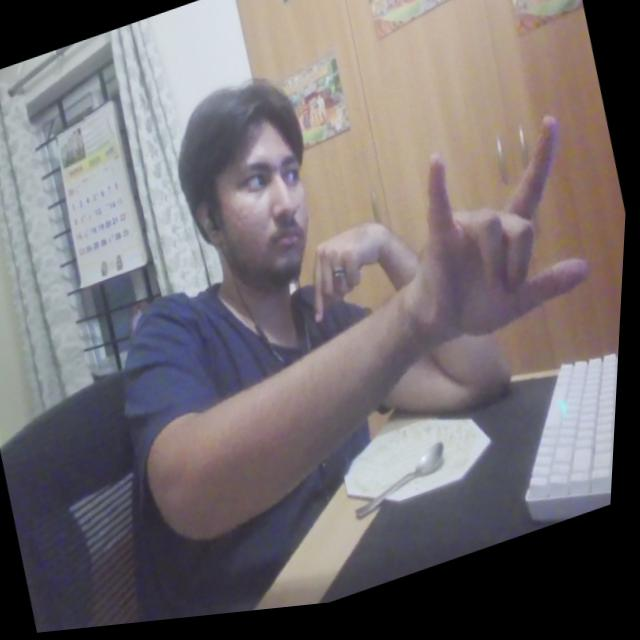iloveyou: (390, 111, 611, 372)
